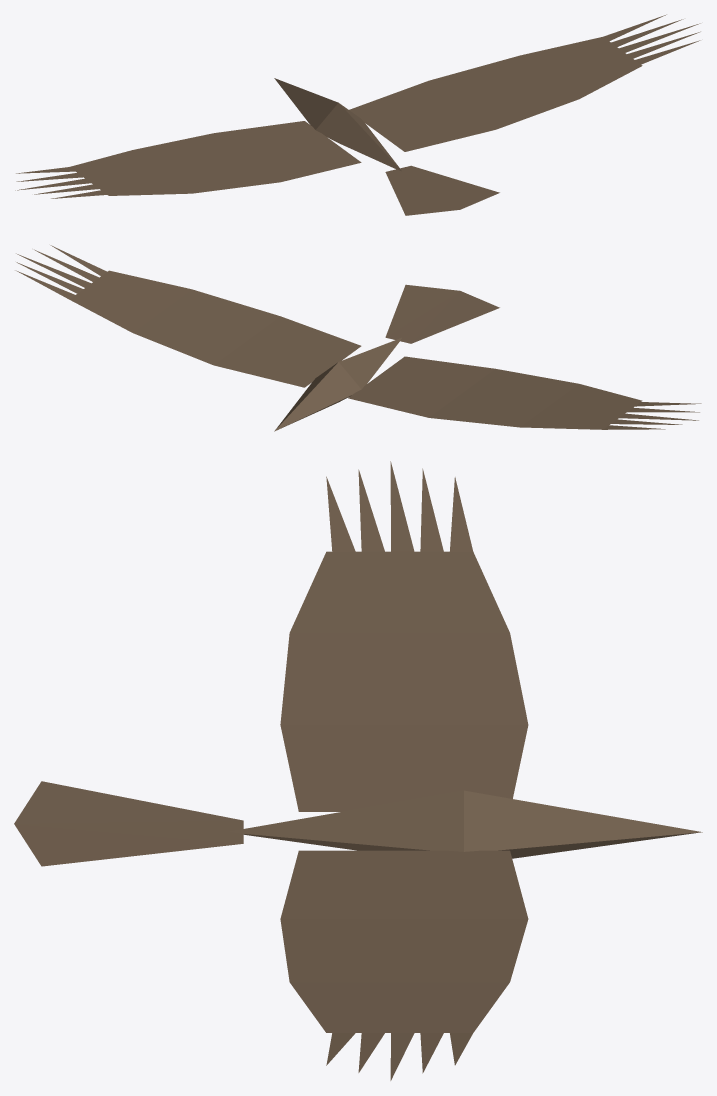
The model's file is bird.glb.
3 views of the same model, one above another, from view 1: azimuth 30°, elevation 25°; view 2: azimuth 150°, elevation 25°; view 3: azimuth 270°, elevation 25° (orthographic). The views are drawn at different scales.
Visible parts, largest first — view 1: Bird; view 2: Bird; view 3: Bird.
Boxes of the visible parts, <box> form: Bird: <box>15,14,700,215</box>; Bird: <box>15,245,701,431</box>; Bird: <box>14,461,702,1080</box>.
Bounding box in the file's own units: 1.6 × 0.1135 × 0.75.
